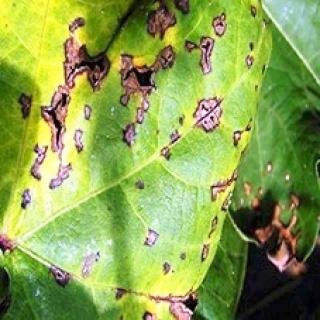blight: (28, 4, 266, 206), (253, 186, 311, 268)
